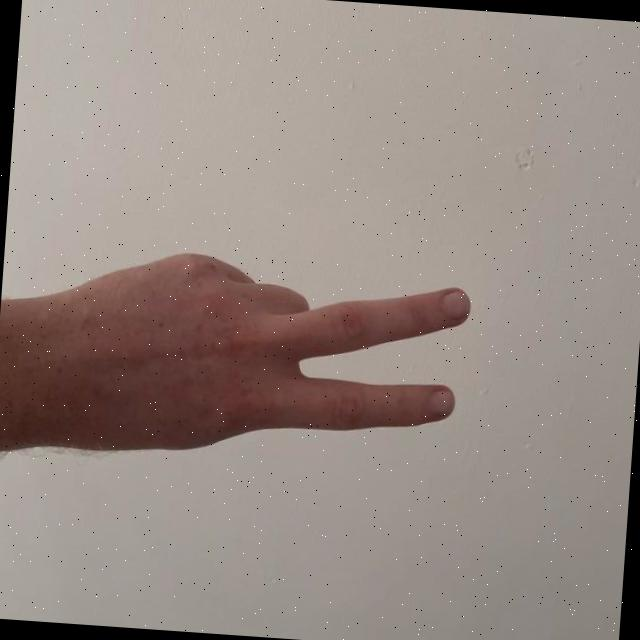scissors: (21, 237, 478, 488)
